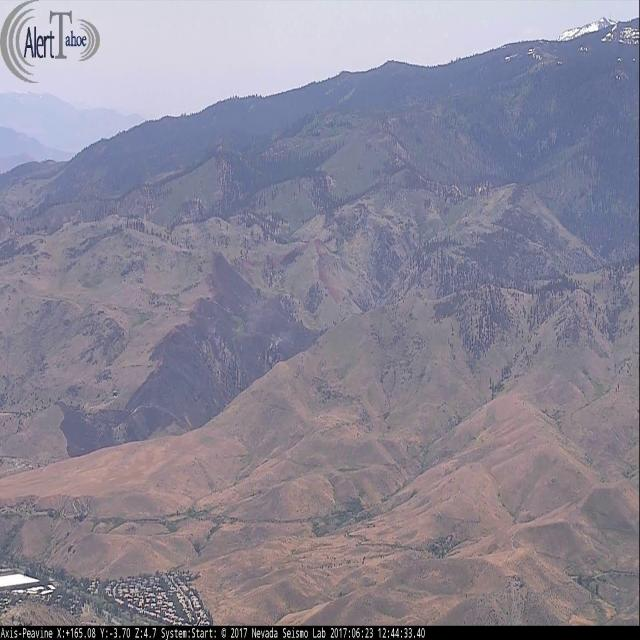smoke: (246, 303, 292, 349)
